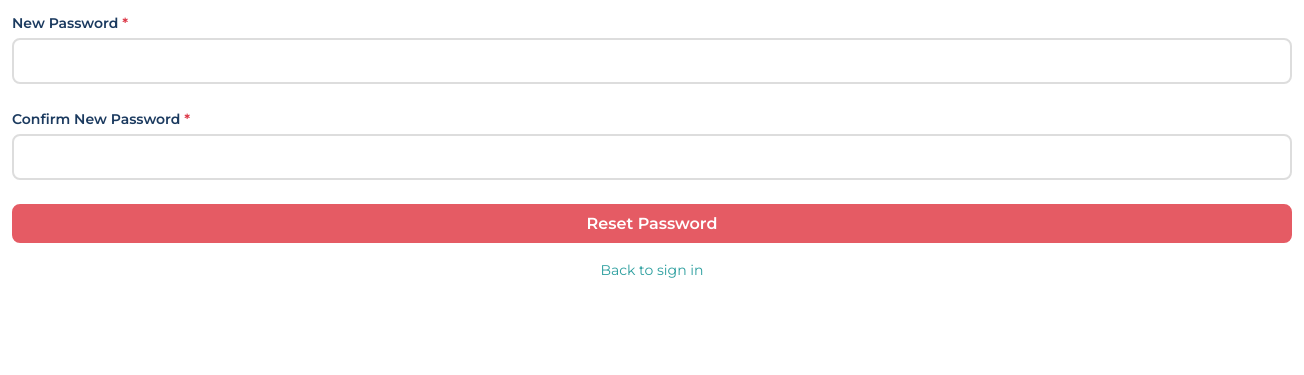
Test case: ResetPasswordForm › shows API error
The image size is (1304, 375).
In the password field with id "input-new-password": [652, 61] box [12, 38, 1292, 84], type "NewPass123!"
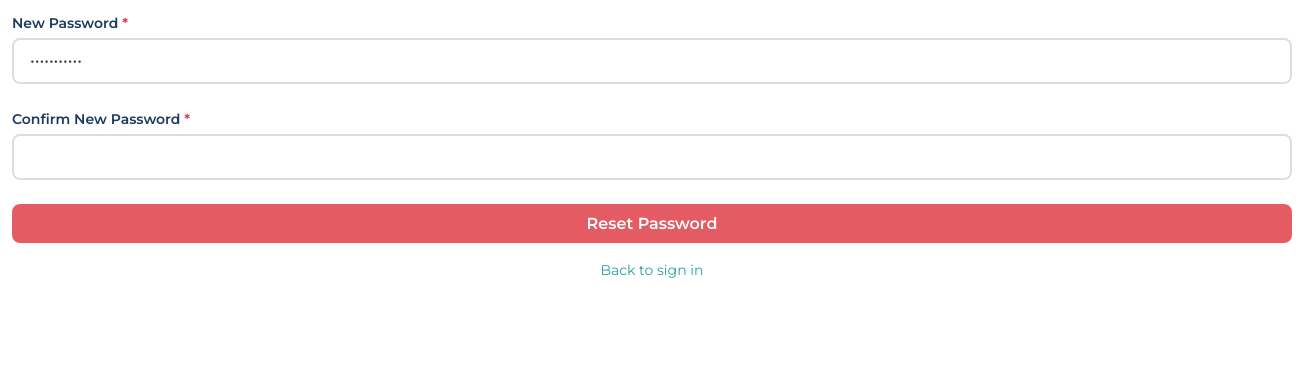
In the password field with id "input-confirm-new-password": [652, 157] box [12, 134, 1292, 180], type "NewPass123!"
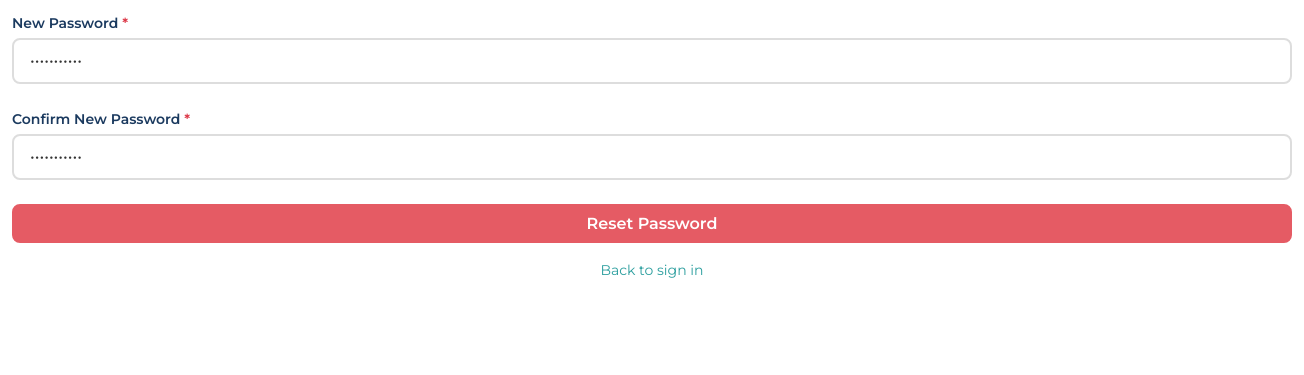
Submit the form
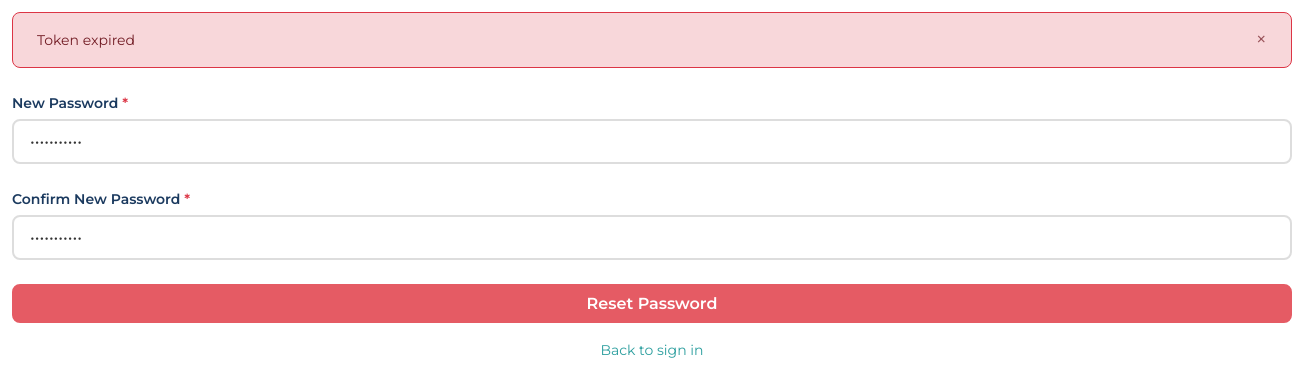
Expected: the text "Token expired" is shown, [37, 31, 135, 49]
